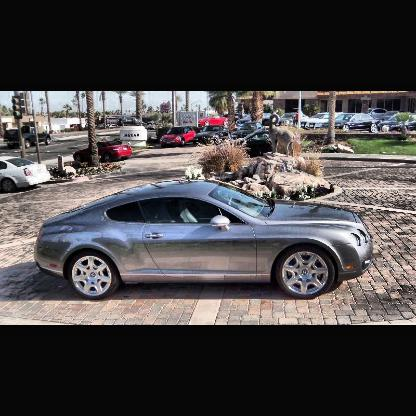Bentley Continental GT Coupe 2007: (36, 179, 370, 299)
